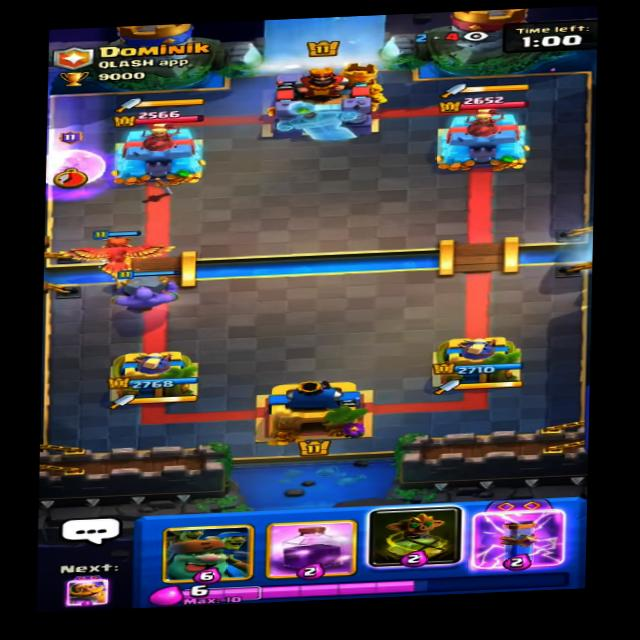Evowizard: (37, 130, 109, 193)
